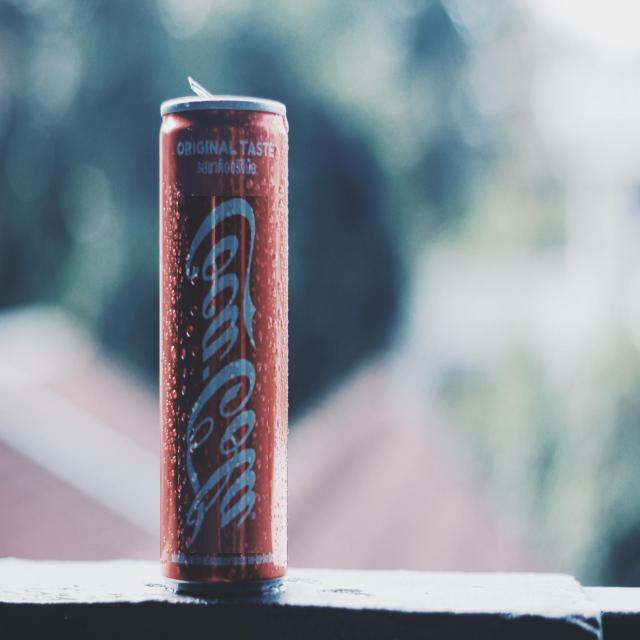coca-cola: (178, 196, 268, 553)
